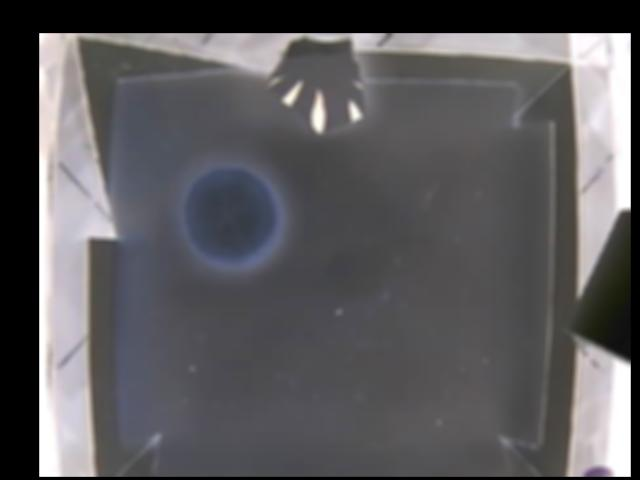China: (268, 36, 359, 135)
Mooli: (179, 165, 284, 270)
